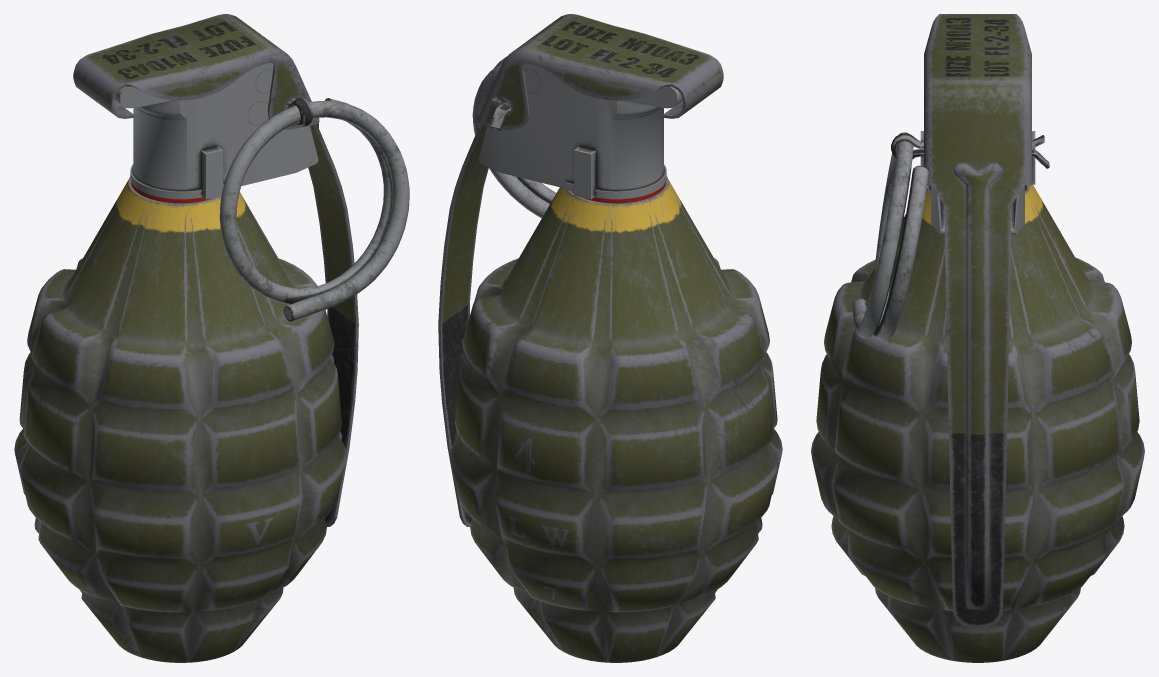
The picture shows the model from 3 angles, left to right: view 1: azimuth 30°, elevation 25°; view 2: azimuth 150°, elevation 25°; view 3: azimuth 270°, elevation 25°; orthographic projection.
Parts seen in each view (by area): view 1: Mk 2 grenade_Work_0; view 2: Mk 2 grenade_Work_0; view 3: Mk 2 grenade_Work_0.
Boxes of the visible parts, x1=… form: Mk 2 grenade_Work_0: x1=14, y1=14, x2=409, y2=662; Mk 2 grenade_Work_0: x1=438, y1=14, x2=782, y2=662; Mk 2 grenade_Work_0: x1=811, y1=14, x2=1144, y2=662.
Bounding box in the file's own units: 6.59 × 11.39 × 5.87.
1 material, 1 textured.
